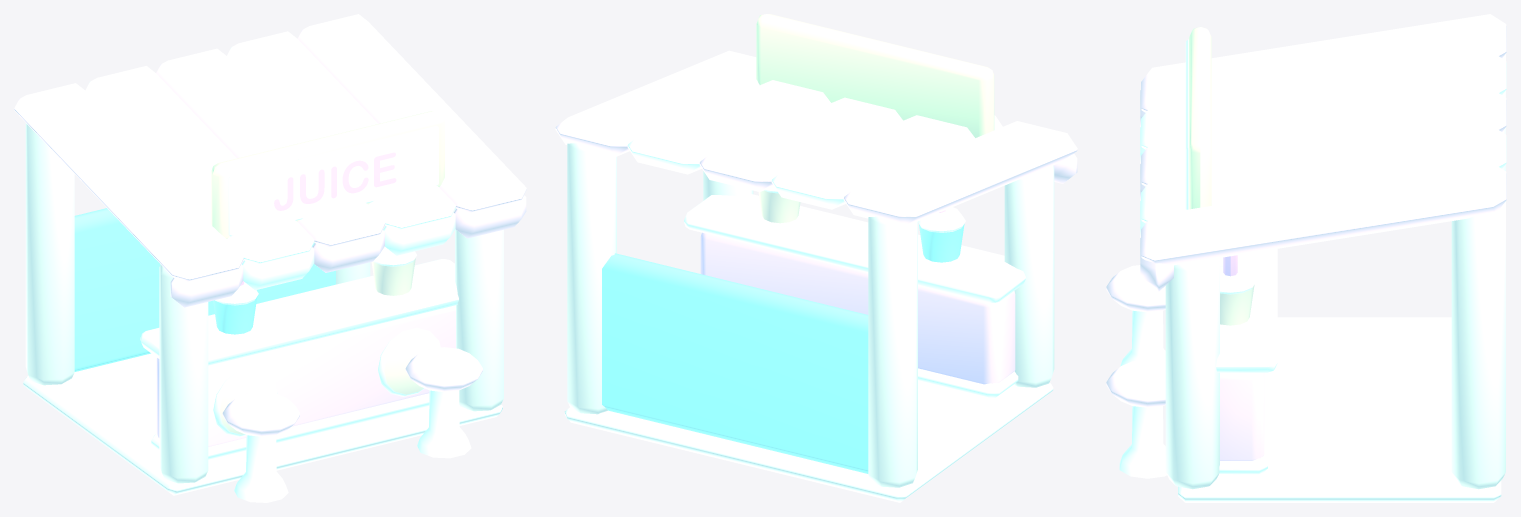
File: props__JuiceBar.glb
3 renders of one model, left to right at view 1: azimuth 30°, elevation 25°; view 2: azimuth 150°, elevation 25°; view 3: azimuth 270°, elevation 25°, orthographic. The views are drawn at different scales.
Parts seen in each view (by area): view 1: JuiceBar; view 2: JuiceBar; view 3: JuiceBar.
Boxes of the visible parts, x1=… form: JuiceBar: x1=14, y1=14, x2=526, y2=502; JuiceBar: x1=555, y1=14, x2=1077, y2=502; JuiceBar: x1=1106, y1=14, x2=1506, y2=502.
Size of the model in its own units: 11.62 by 9.85 by 10.64.
